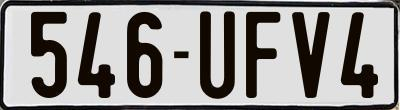4: (339, 12, 381, 99), (76, 11, 117, 97)
5: (30, 11, 71, 98)
6: (124, 10, 165, 102)
F: (243, 9, 279, 101)
U: (200, 9, 240, 100)
V: (292, 10, 336, 101)
